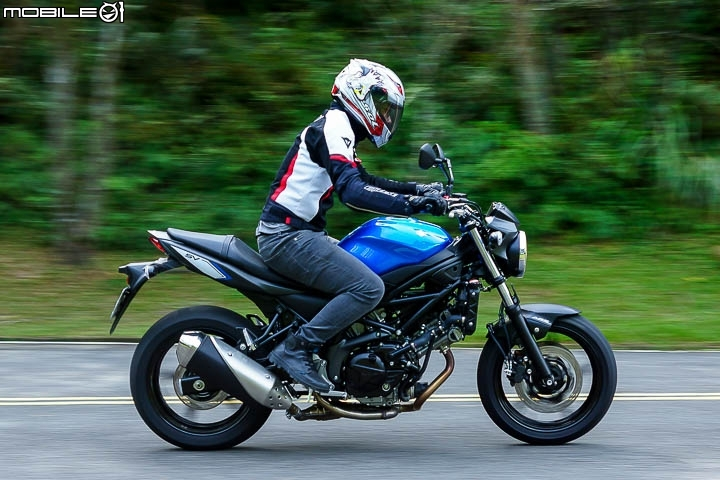helmet: (339, 66, 410, 133)
